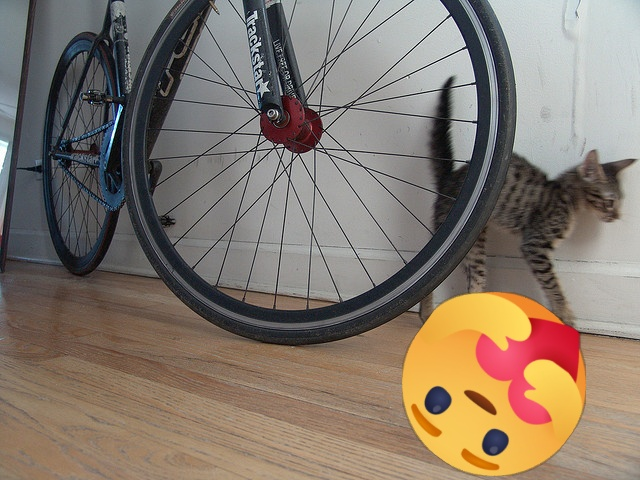care: (402, 292, 586, 476)
